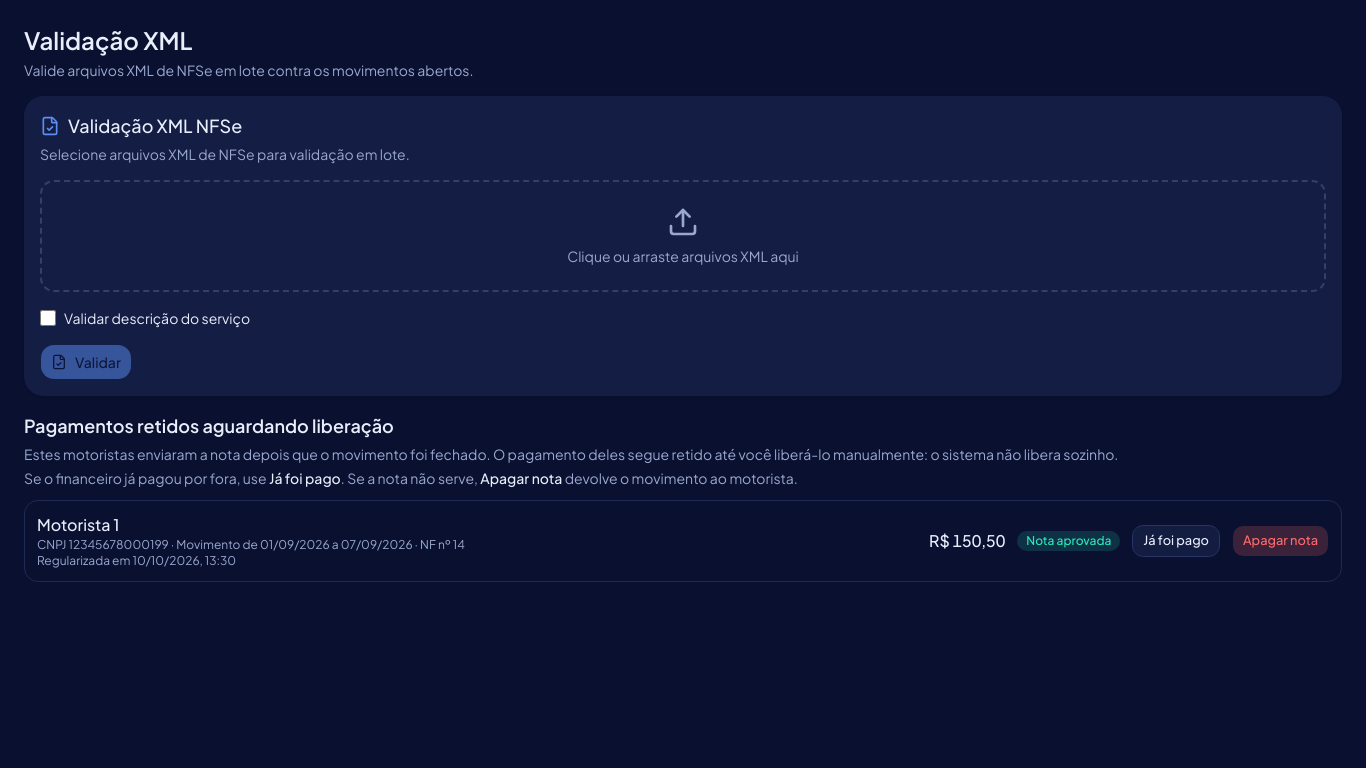
Test: ValidacaoXmlHubPage › ações do financeiro (Já foi pago / Apagar nota) › Apagar nota antes do corte avisa que o motorista NÃO consegue reenviar
Click the button "Apagar nota": (1280,541) [1232,525,1329,557]
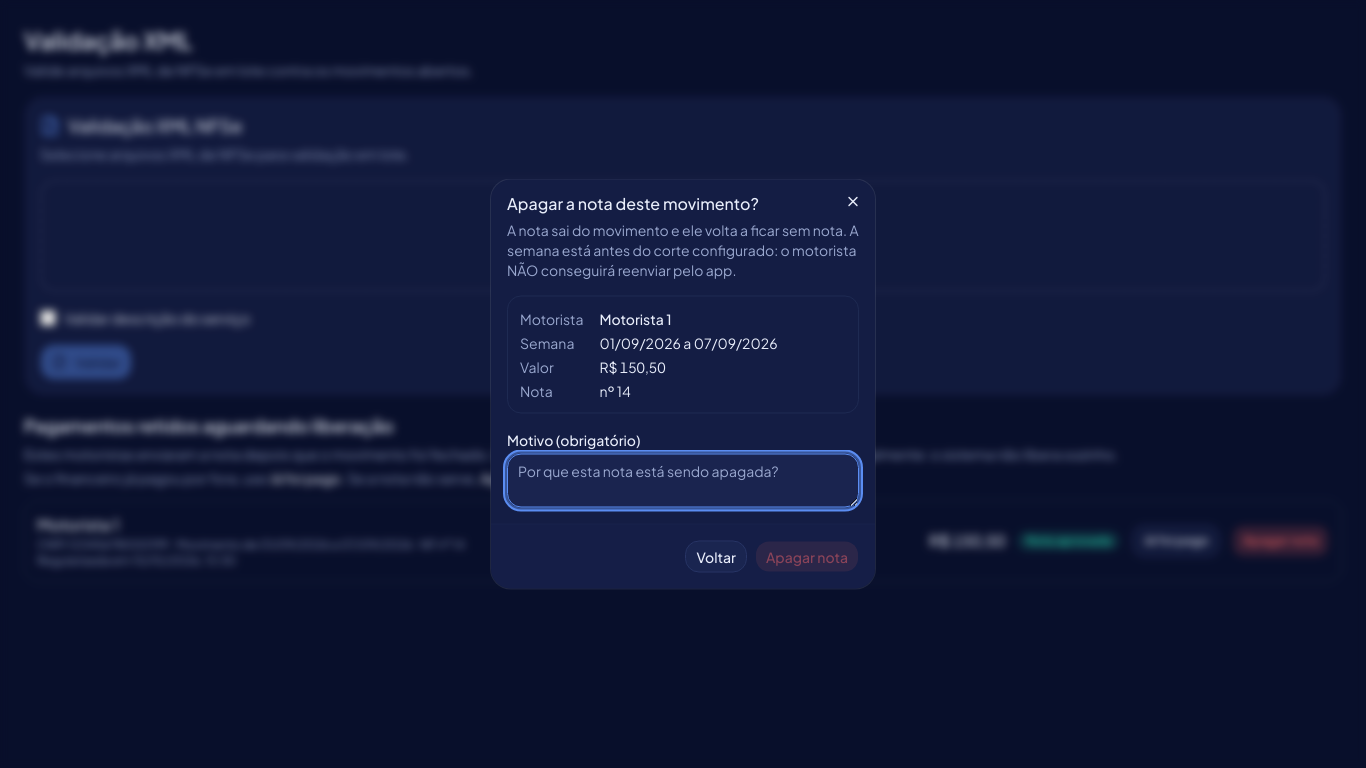
Now the dialog shows "NÃO conseguirá reenviar", box [507,220,859,278]
